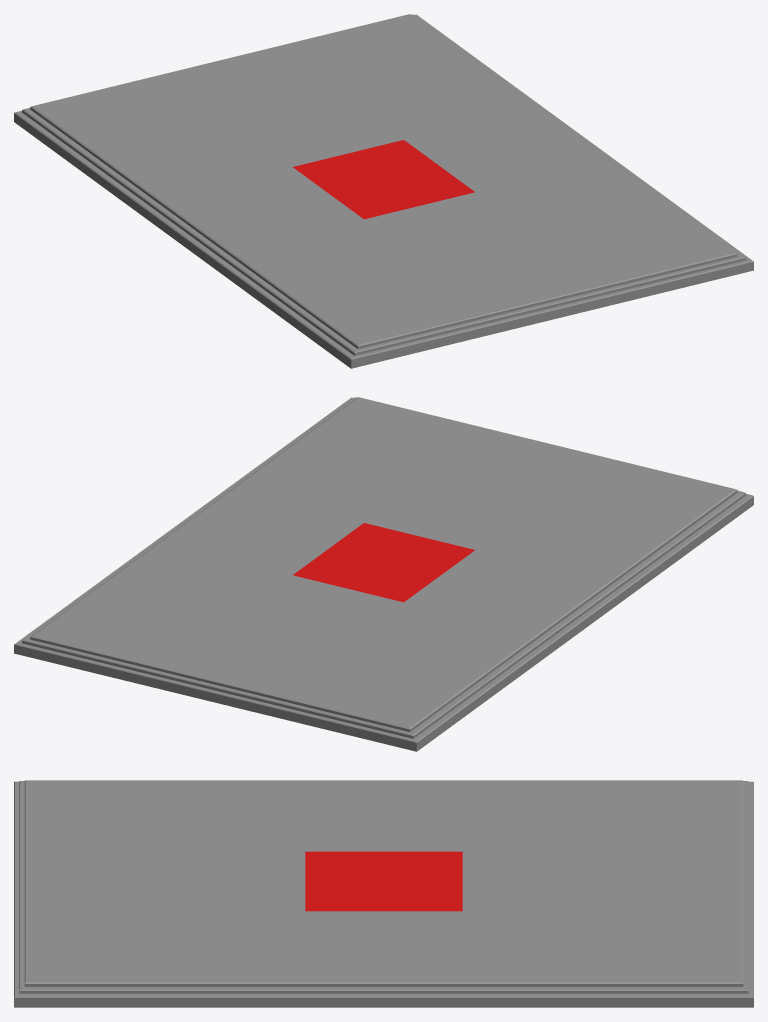
Rendered from Temple_Floor.FBX.
The picture shows the model from 3 angles, top to bottom: view 1: azimuth 30°, elevation 25°; view 2: azimuth 150°, elevation 25°; view 3: azimuth 270°, elevation 25°; orthographic projection. The views are drawn at different scales.
Visible parts, largest first — view 1: Temple_Floor; view 2: Temple_Floor; view 3: Temple_Floor.
Boxes of the visible parts, left/top/right/bottom form: Temple_Floor: left=14, top=14, right=753, bottom=368; Temple_Floor: left=14, top=397, right=753, bottom=751; Temple_Floor: left=14, top=780, right=753, bottom=1007.
Bounding box in the file's own units: 122 × 4.82 × 177.
